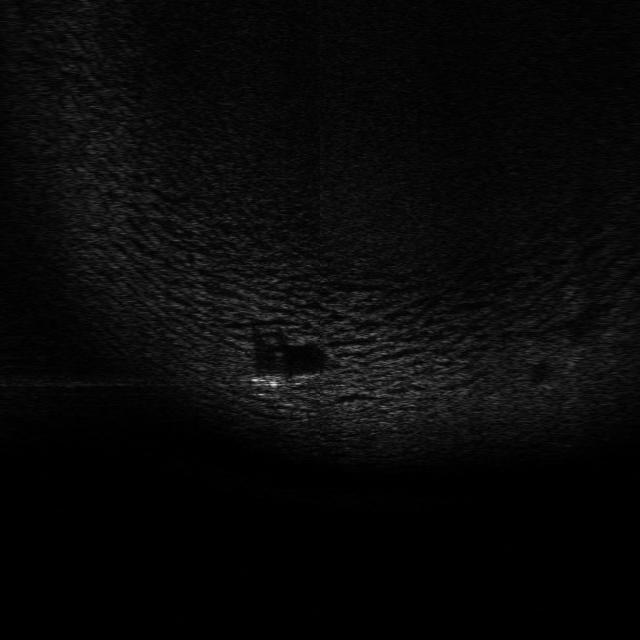plane: (248, 371, 323, 397)
